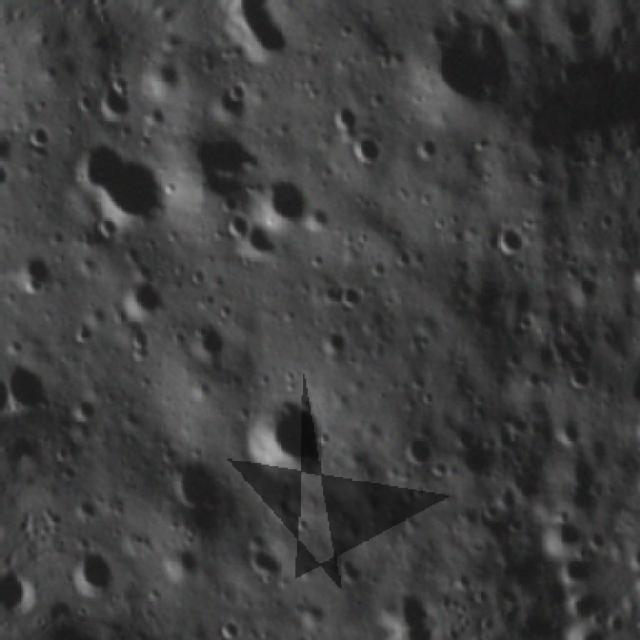crater: (228, 383, 330, 489), (66, 137, 172, 235), (209, 0, 305, 78), (58, 544, 115, 610), (248, 169, 317, 223), (2, 356, 55, 422), (98, 88, 139, 127), (22, 116, 59, 158), (348, 125, 384, 168), (6, 261, 46, 296), (322, 95, 358, 133), (500, 219, 538, 255), (556, 358, 593, 394), (495, 0, 567, 17), (121, 325, 152, 364), (220, 205, 252, 238), (618, 462, 640, 510), (332, 280, 360, 314), (550, 420, 584, 445), (207, 612, 235, 640), (558, 558, 587, 582), (627, 262, 640, 300), (629, 404, 640, 442), (275, 634, 313, 640), (443, 610, 468, 619), (0, 154, 5, 188)
